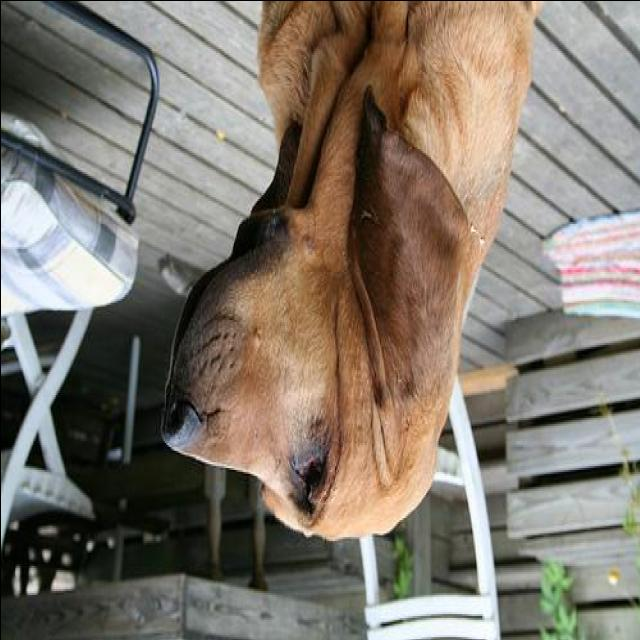bloodhound: (158, 2, 536, 538)
